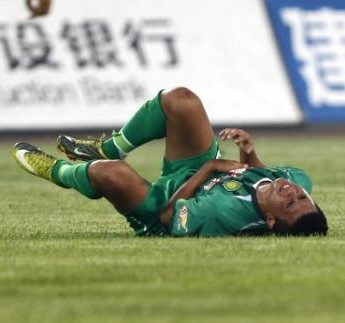fall: (11, 78, 330, 240)
